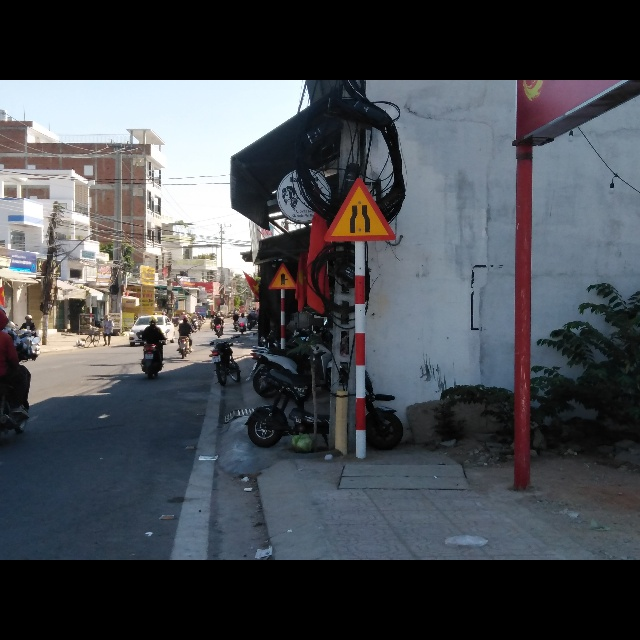Giao nhau với đường không ưu tiên: (267, 262, 299, 291)
Đường bị hẹp cả hai bên: (324, 180, 399, 246)
